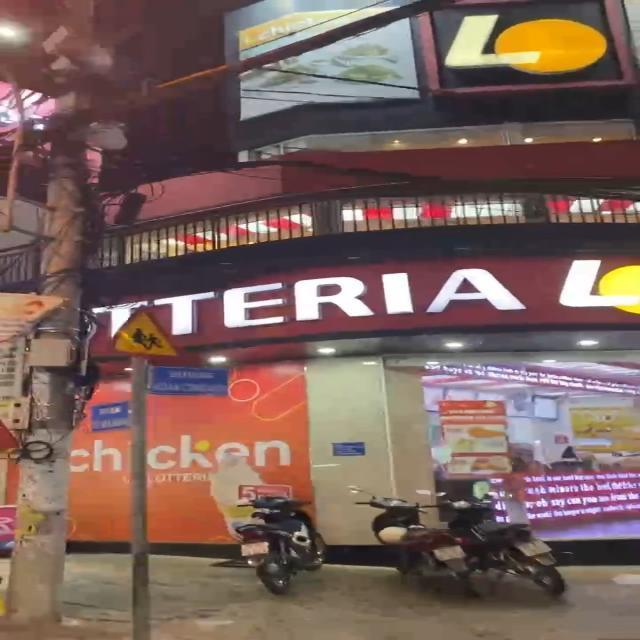225-chu-y-tre-em: (109, 304, 183, 358)
